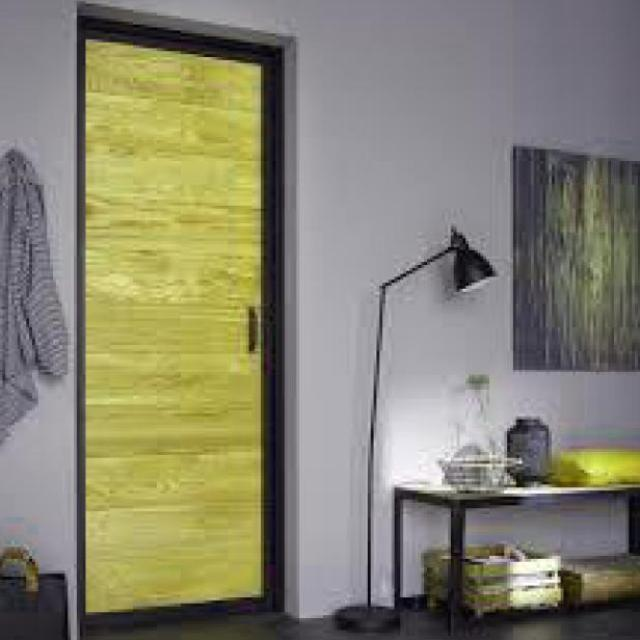door: (78, 9, 283, 620)
